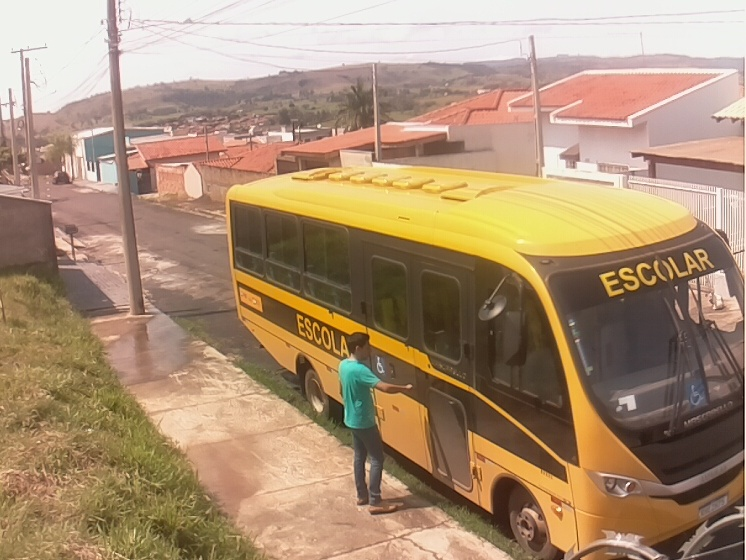person: (336, 331, 415, 516)
